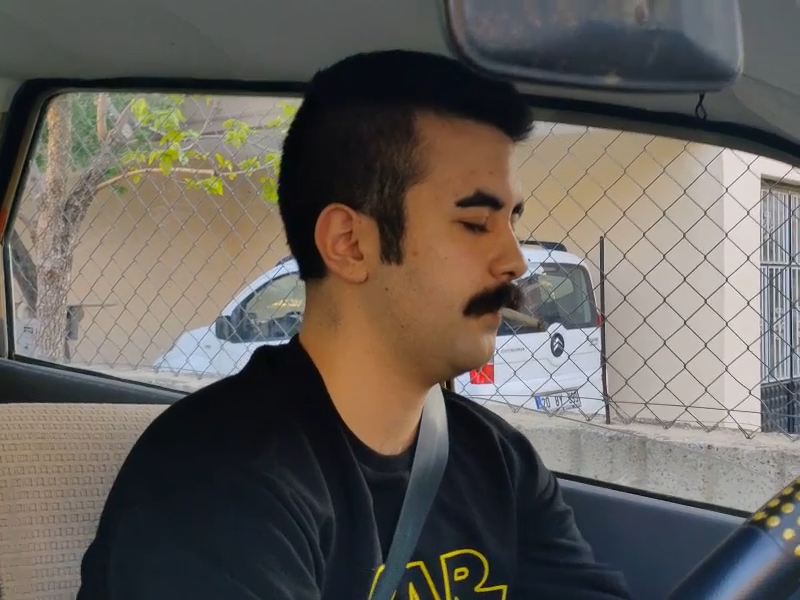sigara: (489, 300, 551, 335)
